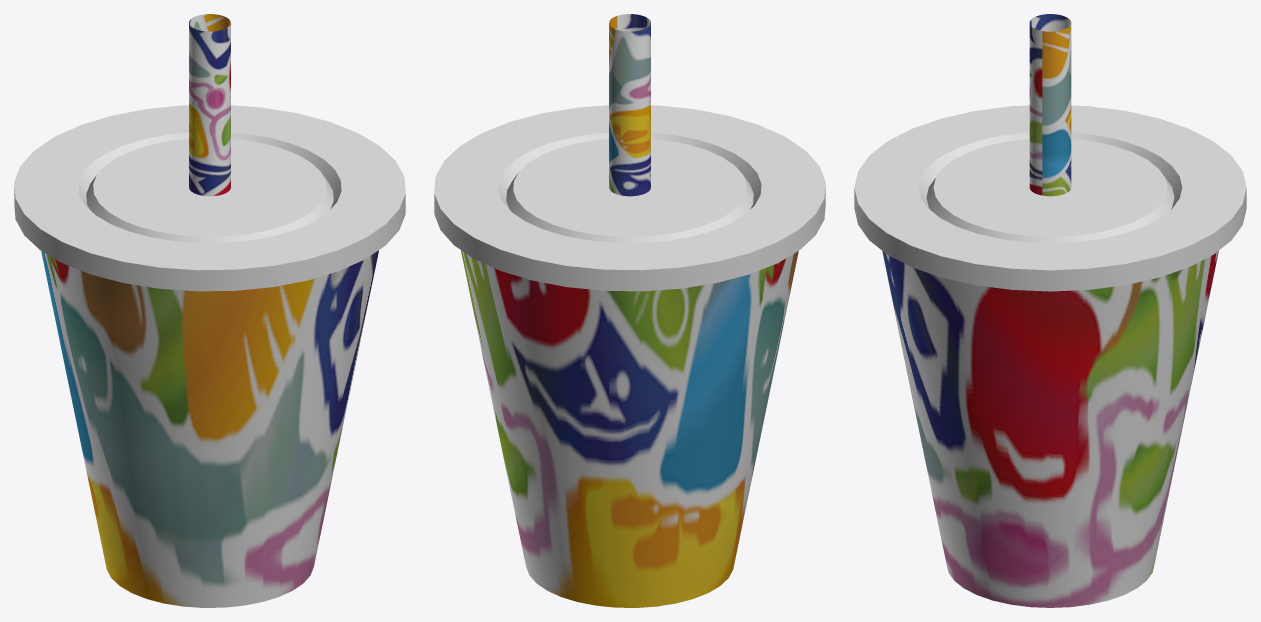
The model's file is Coke.fbx.
The picture shows the model from 3 angles, left to right: view 1: azimuth 30°, elevation 25°; view 2: azimuth 150°, elevation 25°; view 3: azimuth 270°, elevation 25°; orthographic projection.
Parts seen in each view (by area): view 1: Cup, Lid, Straw; view 2: Cup, Lid, Straw; view 3: Cup, Lid, Straw.
Boxes of the visible parts, <box> form: Cup: <box>41,250,378,607</box>; Lid: <box>14,105,405,291</box>; Straw: <box>189,14,230,196</box>; Cup: <box>461,250,798,607</box>; Lid: <box>434,105,825,291</box>; Straw: <box>609,14,650,196</box>; Cup: <box>882,250,1218,607</box>; Lid: <box>854,105,1246,291</box>; Straw: <box>1029,14,1071,196</box>.
Size of the model in its own units: 19.94 by 30.35 by 19.94.
2 materials, 1 textured.
